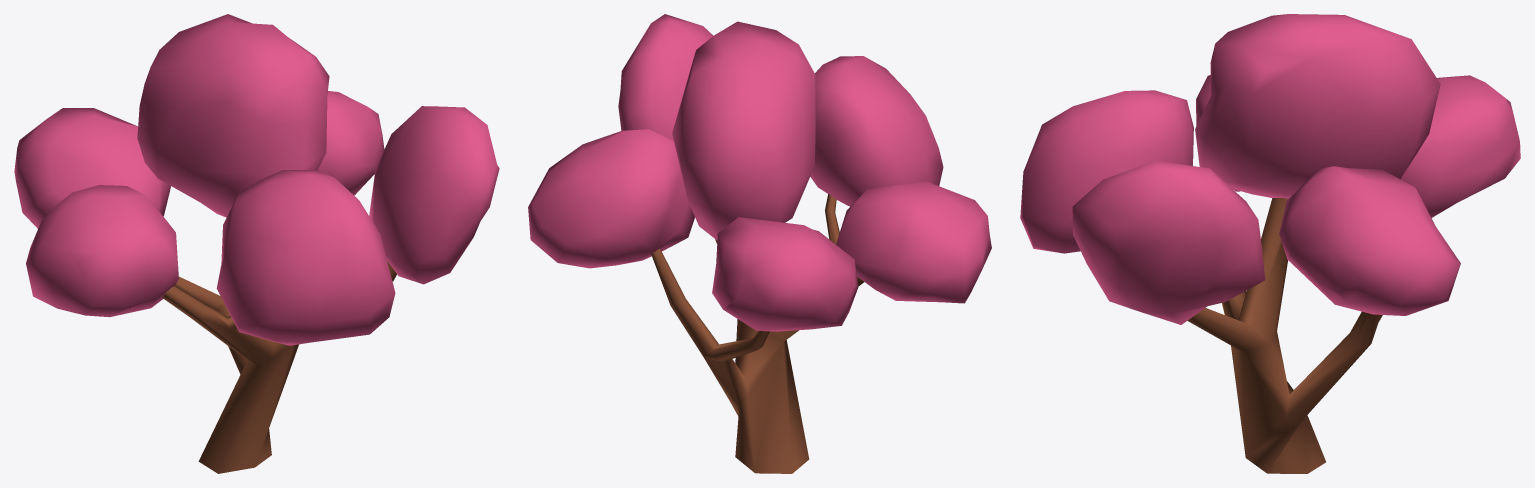
File: Tree_4.fbx
3 views of the same model, side by side, from view 1: azimuth 30°, elevation 25°; view 2: azimuth 150°, elevation 25°; view 3: azimuth 270°, elevation 25° (orthographic). The views are drawn at different scales.
Visible parts, largest first — view 1: Tree_4; view 2: Tree_4; view 3: Tree_4.
Part boxes in pixels (<box>): Tree_4: <box>14,14,499,473</box>; Tree_4: <box>528,14,991,473</box>; Tree_4: <box>1020,14,1520,473</box>.
Size of the model in its own units: 390 by 394 by 389.
